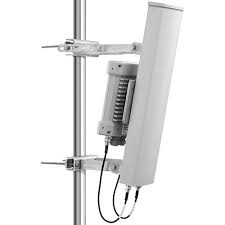sa: (57, 2, 186, 215)
